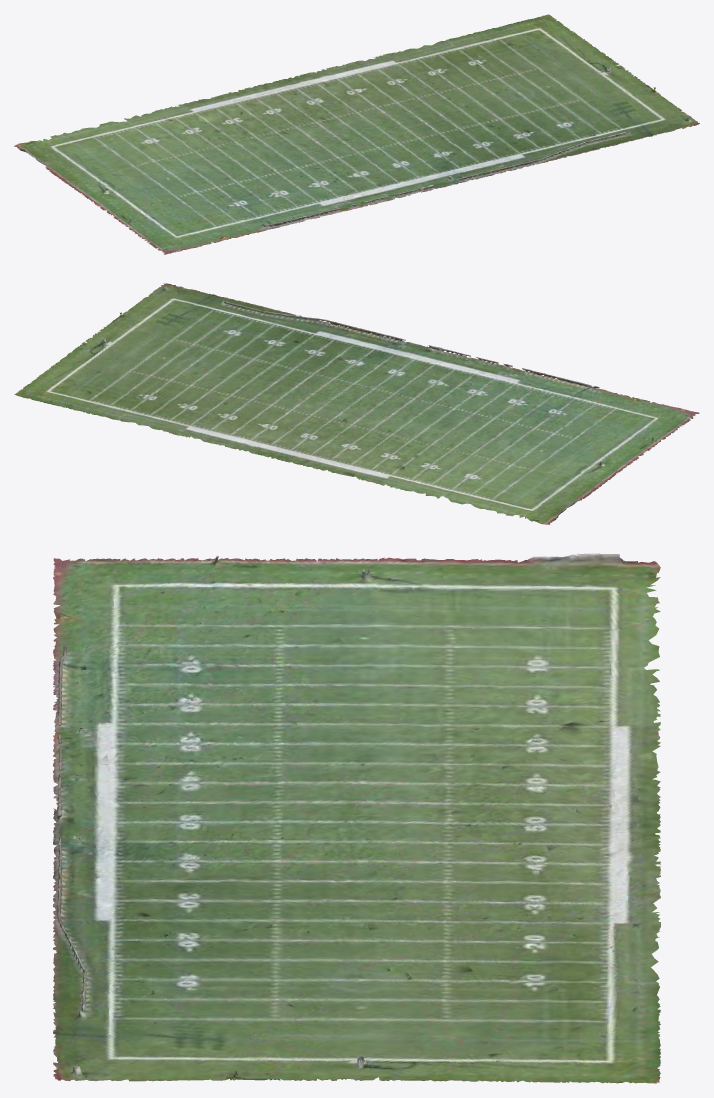
File: sketchfab-football-field.glb
3 renders of one model, top to bottom at view 1: azimuth 30°, elevation 25°; view 2: azimuth 150°, elevation 25°; view 3: azimuth 270°, elevation 25°, orthographic. The views are drawn at different scales.
Parts seen in each view (by area): view 1: Field; view 2: Field; view 3: Field.
Part boxes in pixels (box(x1,y1,x2,y2)): Field: box(14, 14, 699, 254); Field: box(14, 283, 699, 524); Field: box(53, 553, 660, 1083).
Bounding box in the file's own units: 122 × 1.28 × 59.99.
1 material, 1 textured.
